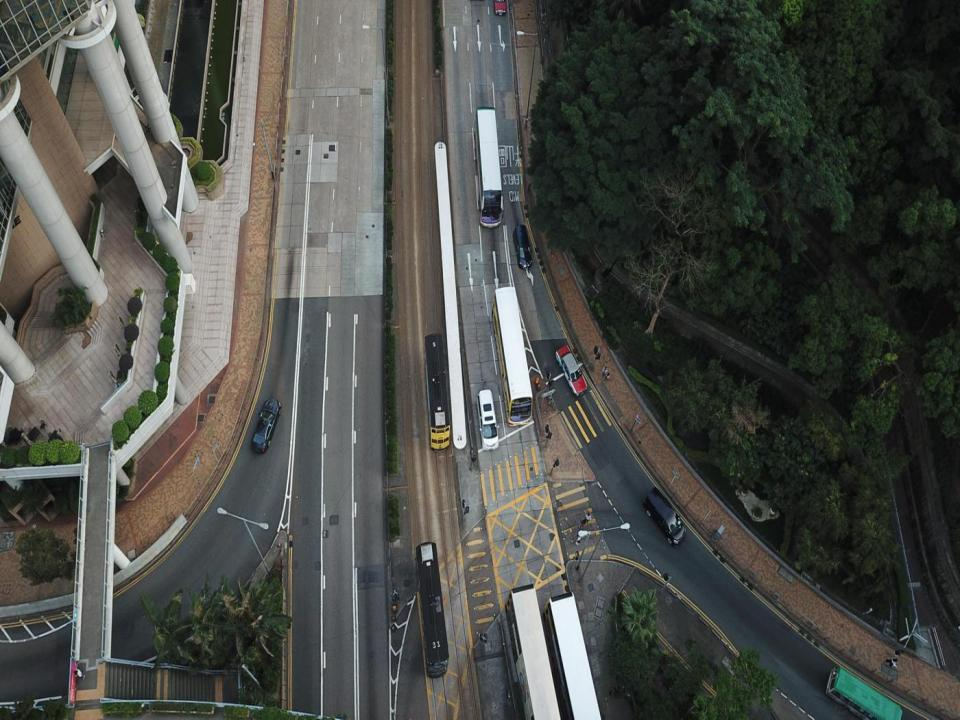bus: (503, 584, 563, 719), (543, 590, 603, 718), (415, 536, 452, 682), (493, 286, 531, 424), (826, 667, 906, 718), (473, 107, 505, 228), (422, 329, 452, 451)
car: (251, 395, 282, 456), (554, 340, 586, 396), (476, 389, 500, 449), (513, 222, 533, 268), (490, 1, 515, 19)
van: (642, 483, 686, 544)
